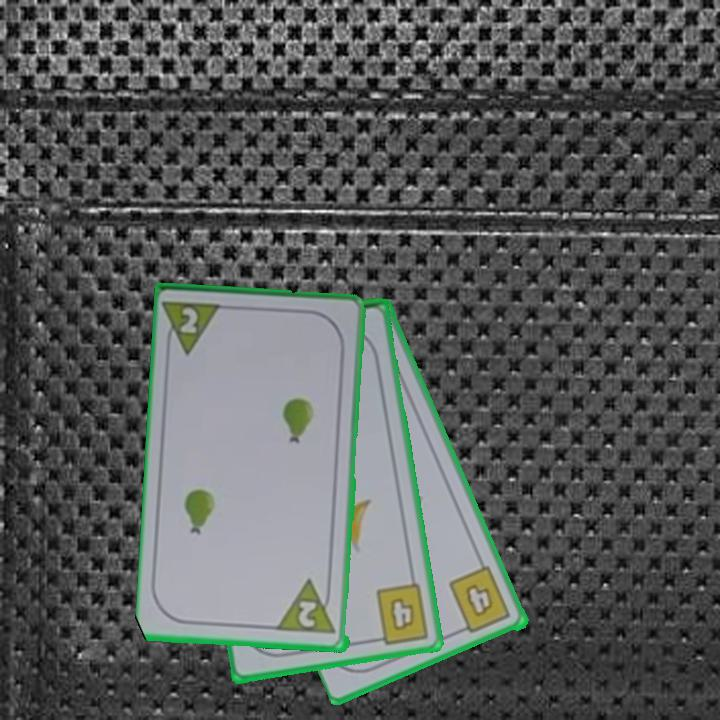2p: (162, 298, 228, 358), (276, 576, 339, 638)
4b: (446, 563, 514, 637), (368, 580, 433, 647)
